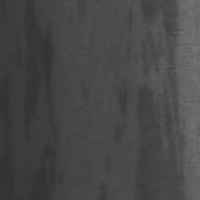inclusion: (135, 1, 183, 200), (18, 2, 57, 198), (107, 77, 129, 148), (79, 75, 95, 106)
